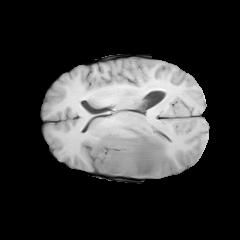glioma: (92, 124, 167, 176)
